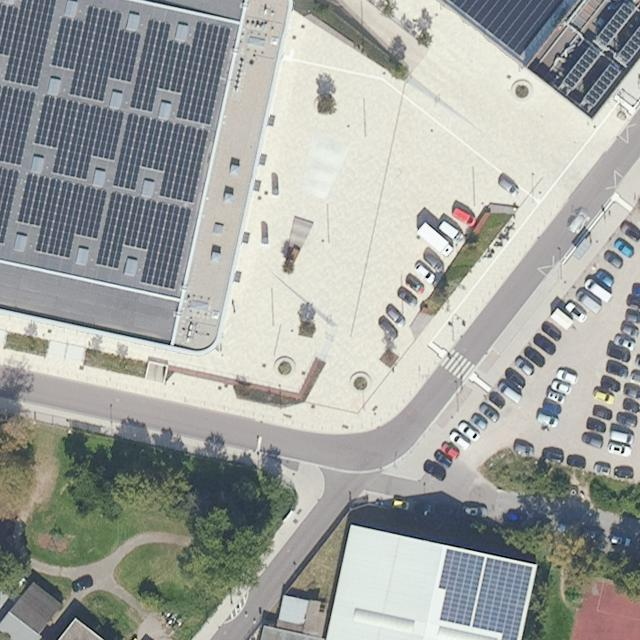PV: (129, 14, 232, 129), (92, 188, 194, 294), (110, 110, 213, 206), (49, 3, 142, 103), (13, 170, 108, 264), (448, 2, 582, 68), (30, 93, 127, 184), (470, 557, 534, 640), (2, 2, 60, 91), (436, 549, 485, 629), (2, 87, 37, 169), (577, 59, 628, 113), (559, 45, 603, 94), (594, 2, 639, 49), (5, 168, 23, 245), (616, 26, 638, 63)
